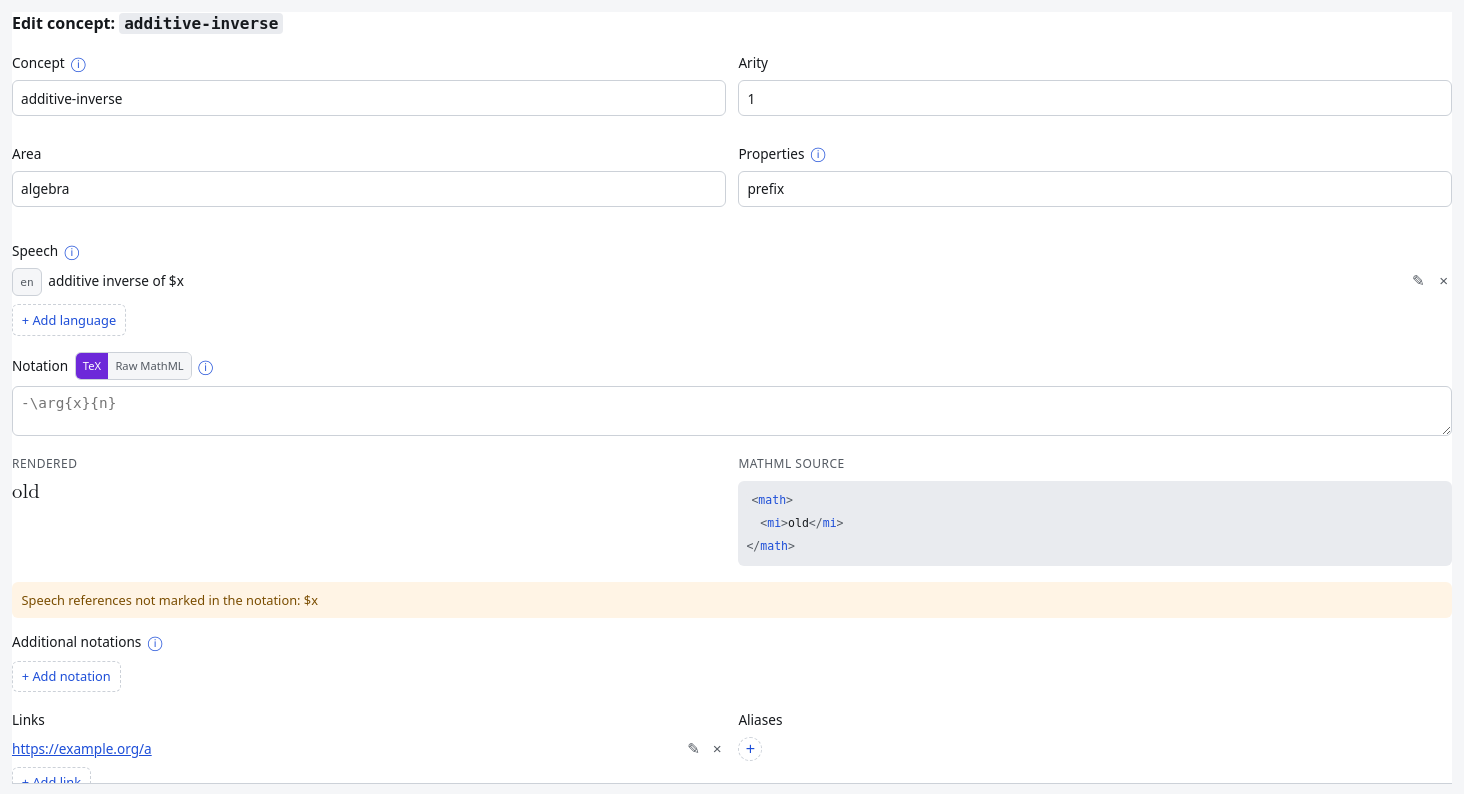
it: NotationEditor › explains that properties are space-separated via the info button
The image size is (1464, 794).
Click the button named "Properties help" at (818, 154), box [811,146,826,161]
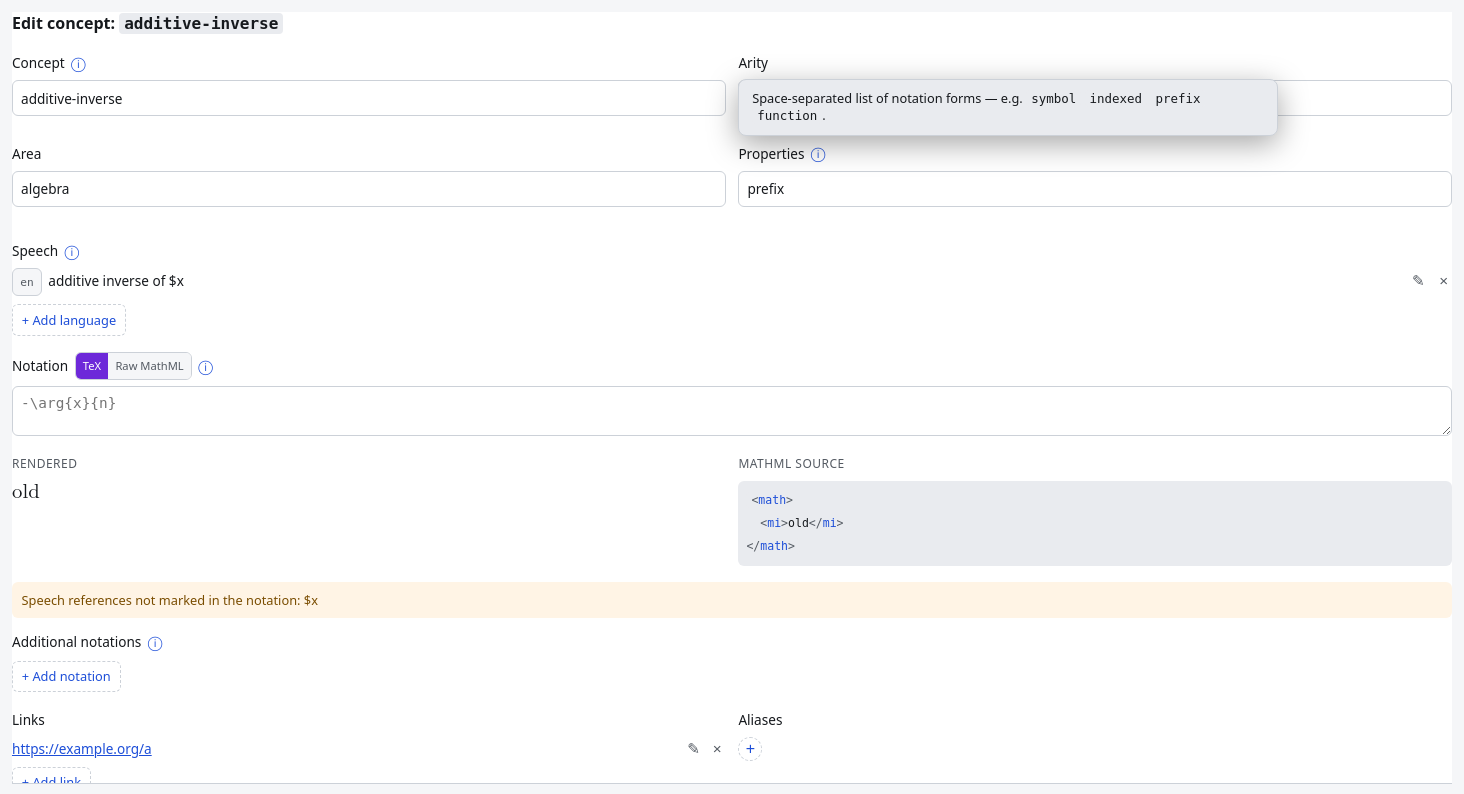
expect the element with test id "properties-help" shows "Space-separated": met, box [752,89,1026,107]
